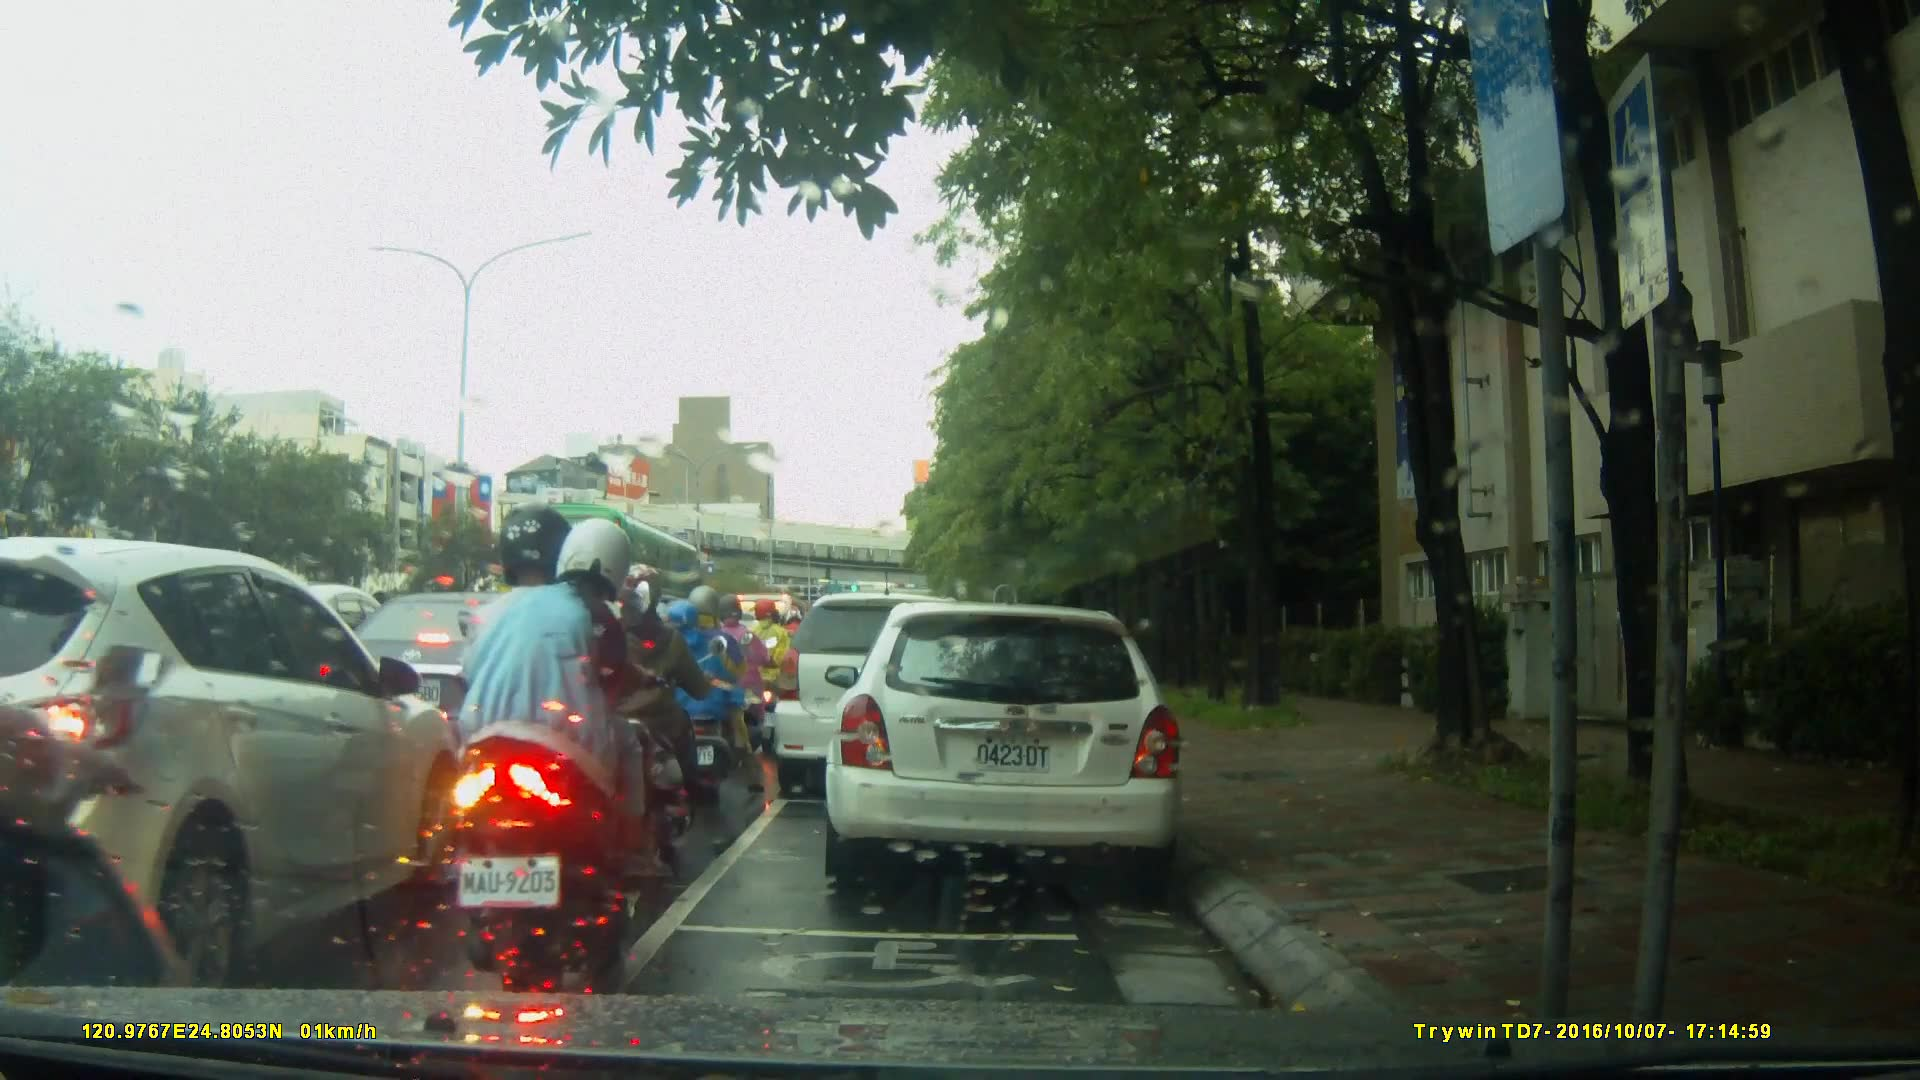rider: (454, 505, 665, 991), (603, 567, 729, 855), (659, 587, 743, 798), (699, 598, 771, 764), (741, 598, 798, 746)
vehicle: (4, 536, 464, 988), (831, 592, 1196, 897), (312, 589, 629, 776), (771, 590, 999, 803), (498, 502, 710, 636)
